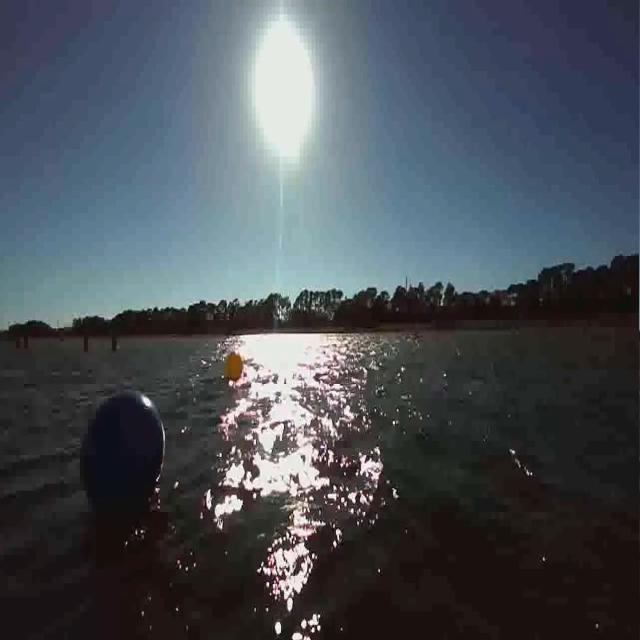blue-buoy: (78, 385, 171, 528)
yellow-buoy: (226, 349, 242, 380)
